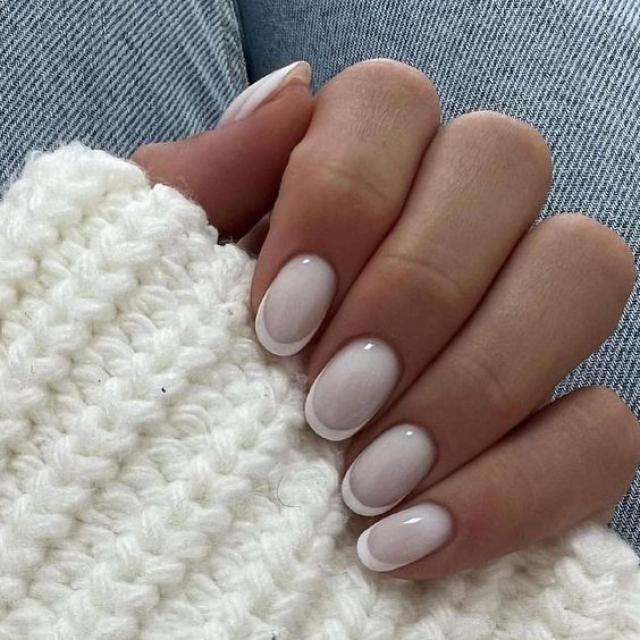Fingernail: (306, 337, 400, 440), (342, 424, 435, 515), (257, 255, 337, 355), (357, 503, 452, 572), (220, 62, 310, 126)
